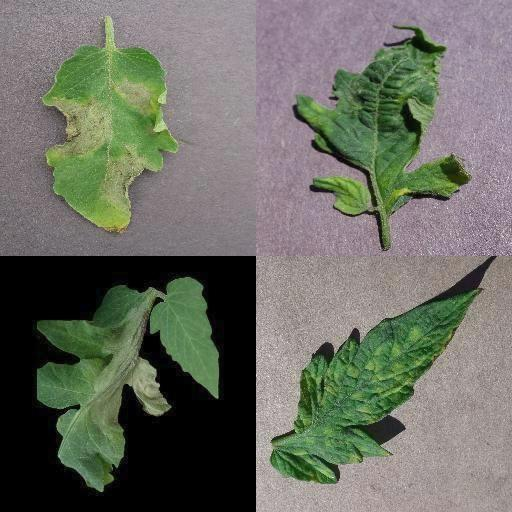Healthy: (148, 277, 220, 399)
Late Blight: (36, 288, 170, 492), (40, 44, 178, 236)
Leaf Mold: (271, 288, 484, 484)
Mosaic Virus: (296, 21, 472, 217)
